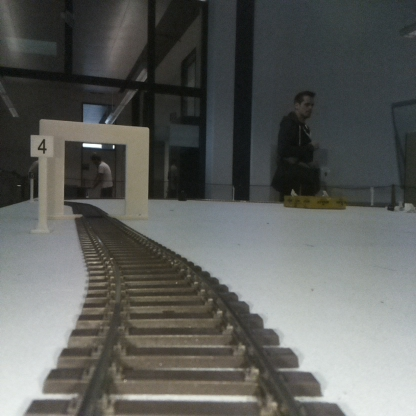white-info-4: (30, 134, 53, 237)
